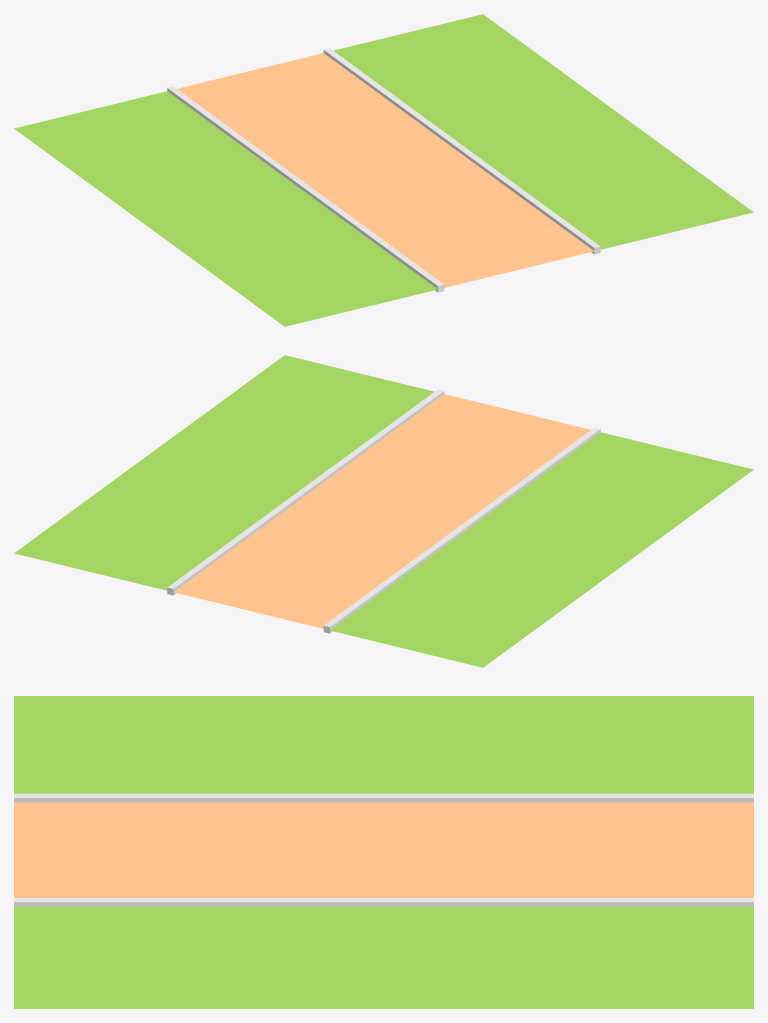
The model's file is park_road_003.glb.
3 renders of one model, top to bottom at view 1: azimuth 30°, elevation 25°; view 2: azimuth 150°, elevation 25°; view 3: azimuth 270°, elevation 25°, orthographic. The views are drawn at different scales.
Parts seen in each view (by area): view 1: park_road_003; view 2: park_road_003; view 3: park_road_003.
Boxes of the visible parts, x1,y1,x2,y2 form: park_road_003: (14, 14, 753, 326); park_road_003: (14, 355, 753, 667); park_road_003: (14, 696, 753, 1008).
Bounding box in the file's own units: 15 × 0.2 × 15.
Materials: 1 (1 with a texture image).
